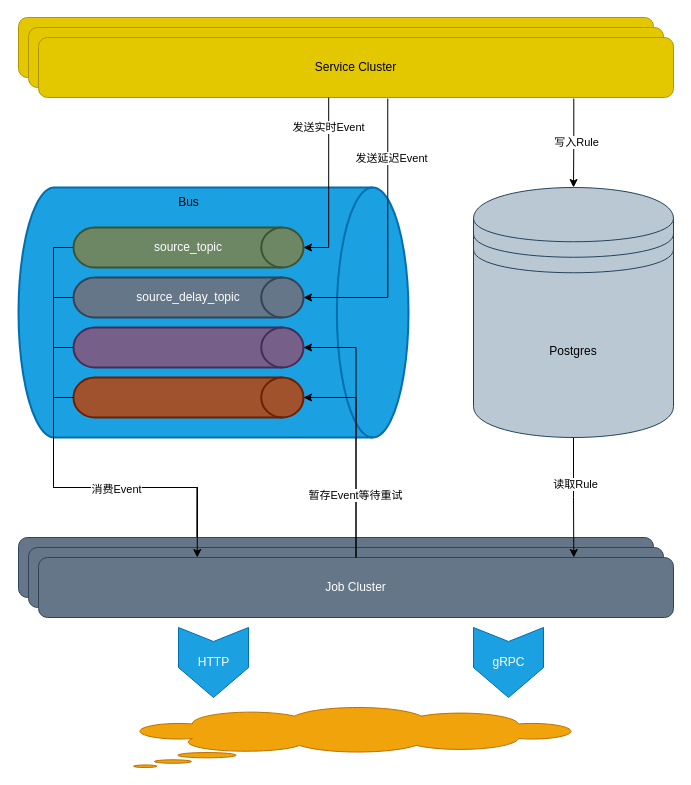
Image size: 691x785. Some labels were removed from this diagram. The centre of each missing label's shape, as x and y in pixels:
"target_backoff_topic" goes at point 188,397.
"target_exp_decay_topic" goes at point 188,347.
"接收Event的应用" goes at point 353,737.
